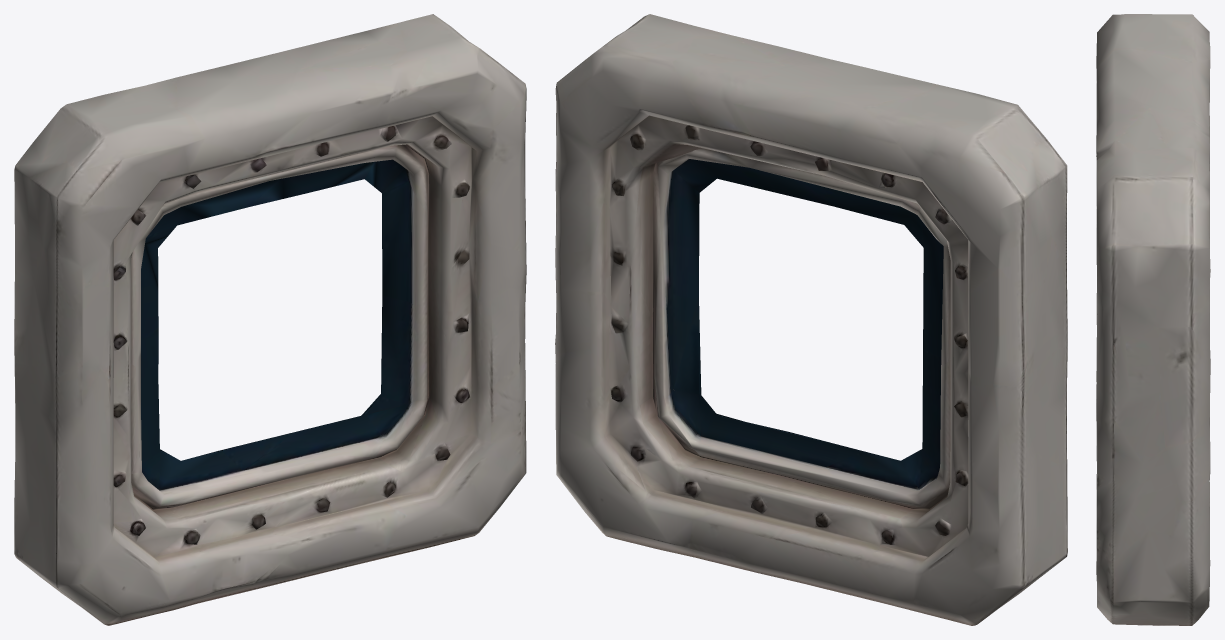
File: port.glb
3 renders of one model, left to right at view 1: azimuth 30°, elevation 25°; view 2: azimuth 150°, elevation 25°; view 3: azimuth 270°, elevation 25°, orthographic. The views are drawn at different scales.
Visible parts, largest first — view 1: tripo_node_78636abb-6bce-4390-bcad-8d529eade2fb; view 2: tripo_node_78636abb-6bce-4390-bcad-8d529eade2fb; view 3: tripo_node_78636abb-6bce-4390-bcad-8d529eade2fb.
Boxes of the visible parts, x1,y1,x2,y2 form: tripo_node_78636abb-6bce-4390-bcad-8d529eade2fb: (14, 14, 526, 625); tripo_node_78636abb-6bce-4390-bcad-8d529eade2fb: (555, 14, 1067, 625); tripo_node_78636abb-6bce-4390-bcad-8d529eade2fb: (1096, 14, 1210, 625).
Size of the model in its own units: 1.3 by 1.3 by 0.2999.
1 material, 1 textured.
